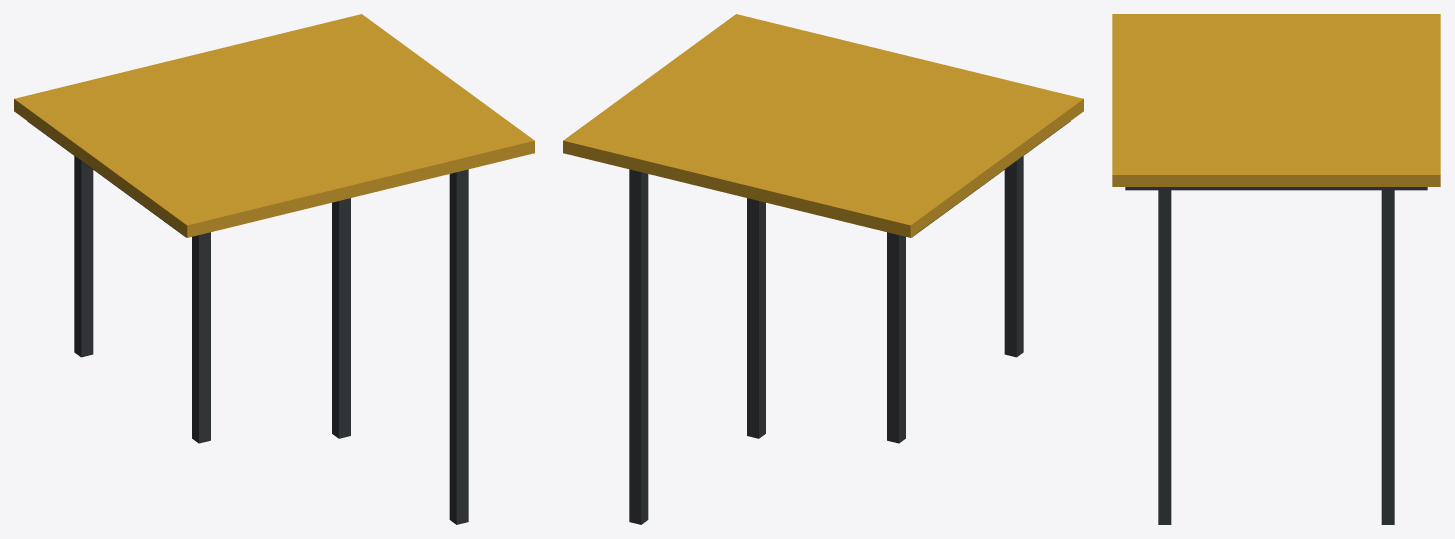
The model's file is road_roller_canopy.glb.
The picture shows the model from 3 angles, left to right: view 1: azimuth 30°, elevation 25°; view 2: azimuth 150°, elevation 25°; view 3: azimuth 270°, elevation 25°; orthographic projection. The views are drawn at different scales.
Visible parts, largest first — view 1: body:compound; view 2: body:compound; view 3: body:compound.
Boxes of the visible parts, x1=… form: body:compound: x1=14, y1=14, x2=534, y2=524; body:compound: x1=563, y1=14, x2=1083, y2=524; body:compound: x1=1112, y1=14, x2=1440, y2=524.
Bounding box in the file's own units: 1.81 × 1.94 × 1.56.
